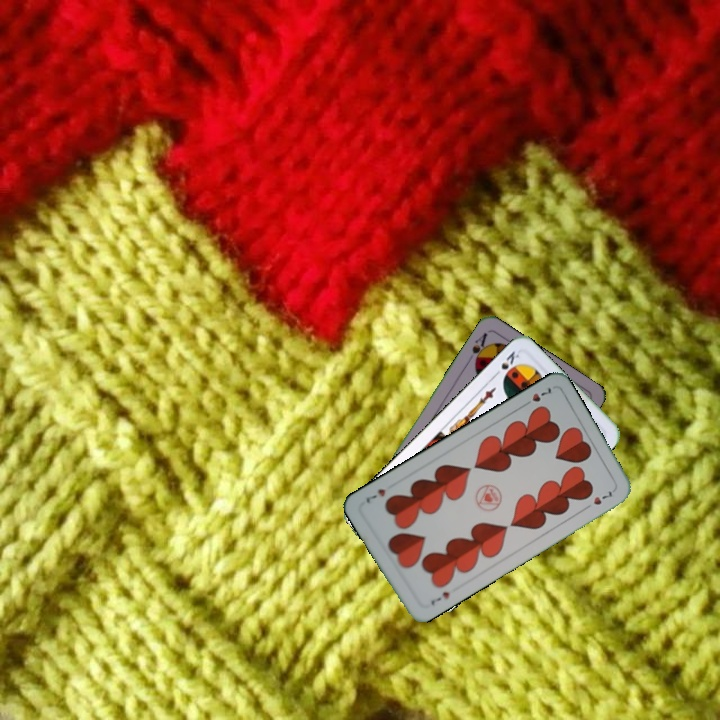H7: (519, 383, 554, 409), (427, 587, 452, 608)
SA: (468, 329, 491, 368)
SK: (489, 347, 522, 381)
